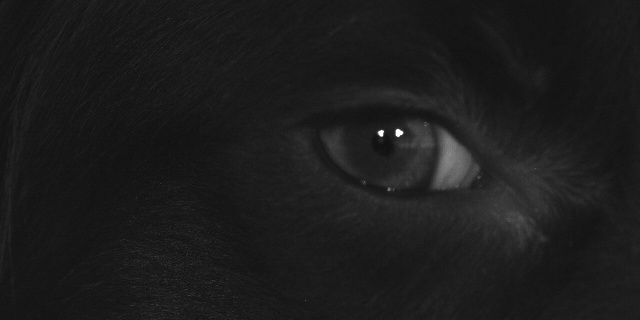iris: (312, 114, 488, 190)
